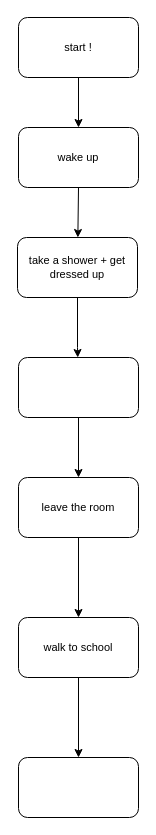
This 156x835 diagram has some shape labels left out. Here are the shapes that lost their labels. From the top down, the centre of each, then its label:
At point 78,387: "have my breakfast".
At point 78,787: "end.".
